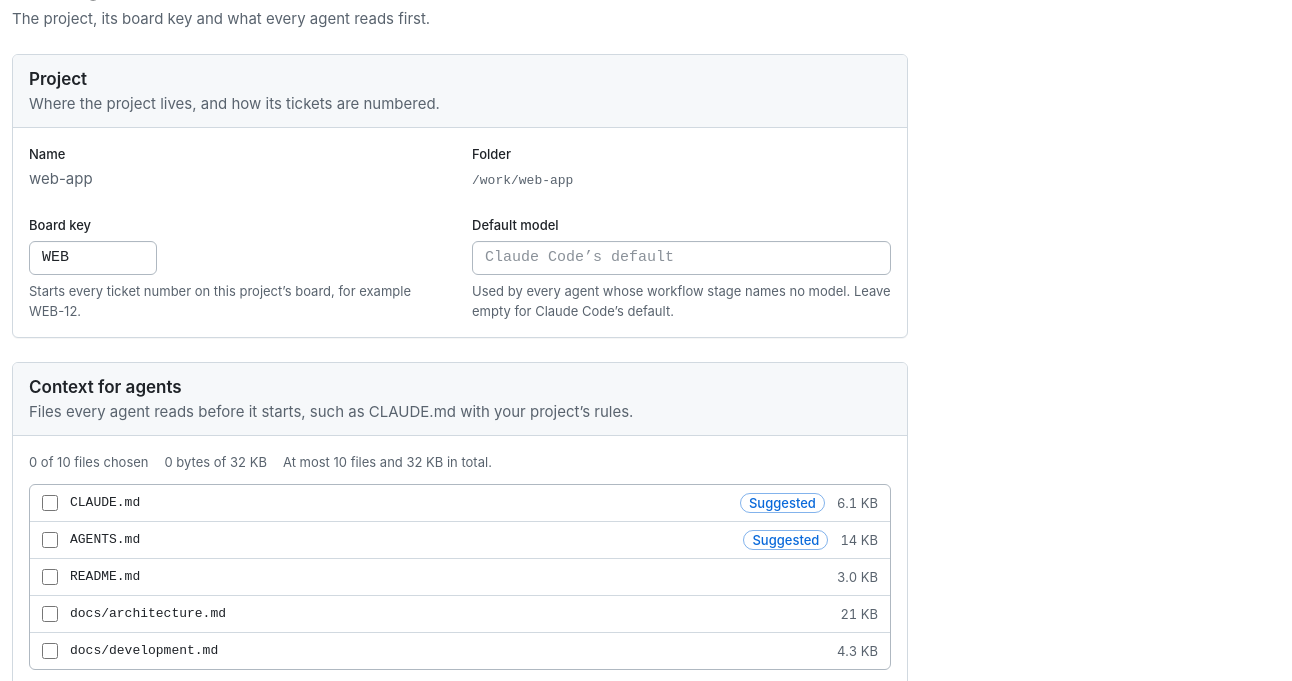
Project settings (#/p/:id/settings, docs/redesign/README.md §4.7) › checks the board key in a sentence before saving
Type "W" into the field labelled "Board key" at (93, 258), box [29,241,157,275]
(page scrolled)
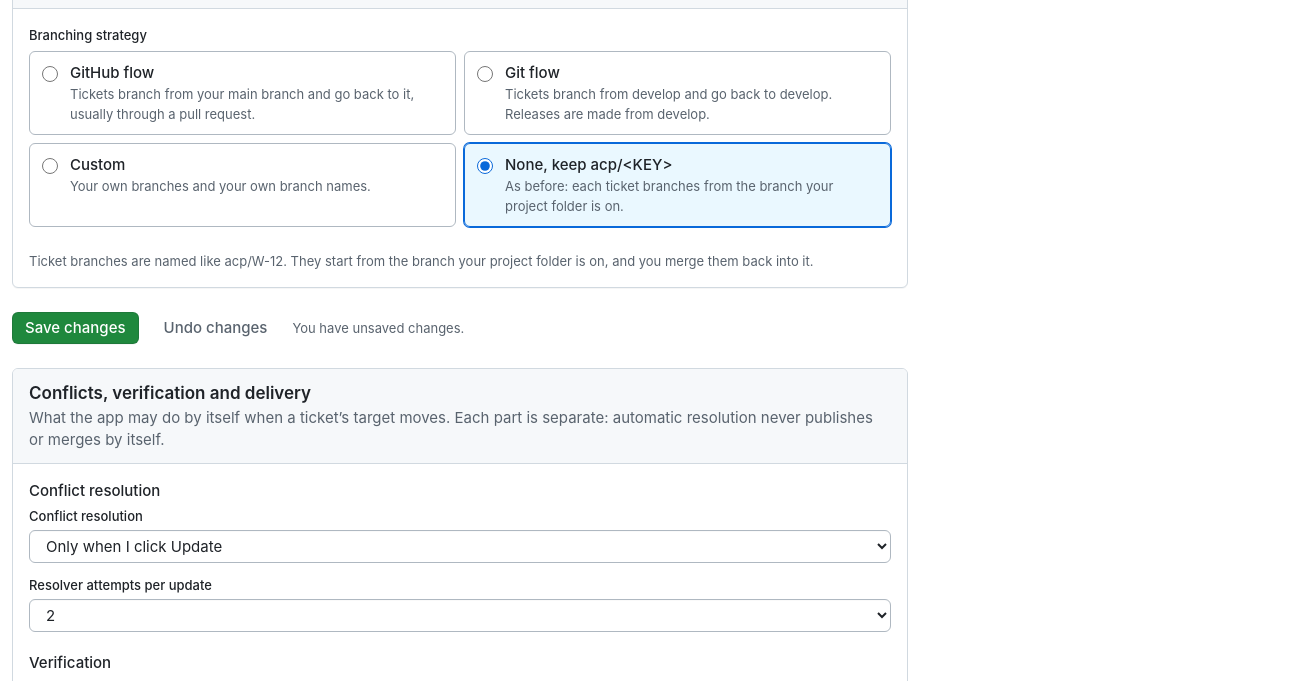
Click the button "Save changes" at (75, 328), box [12,312,138,344]
(page scrolled)
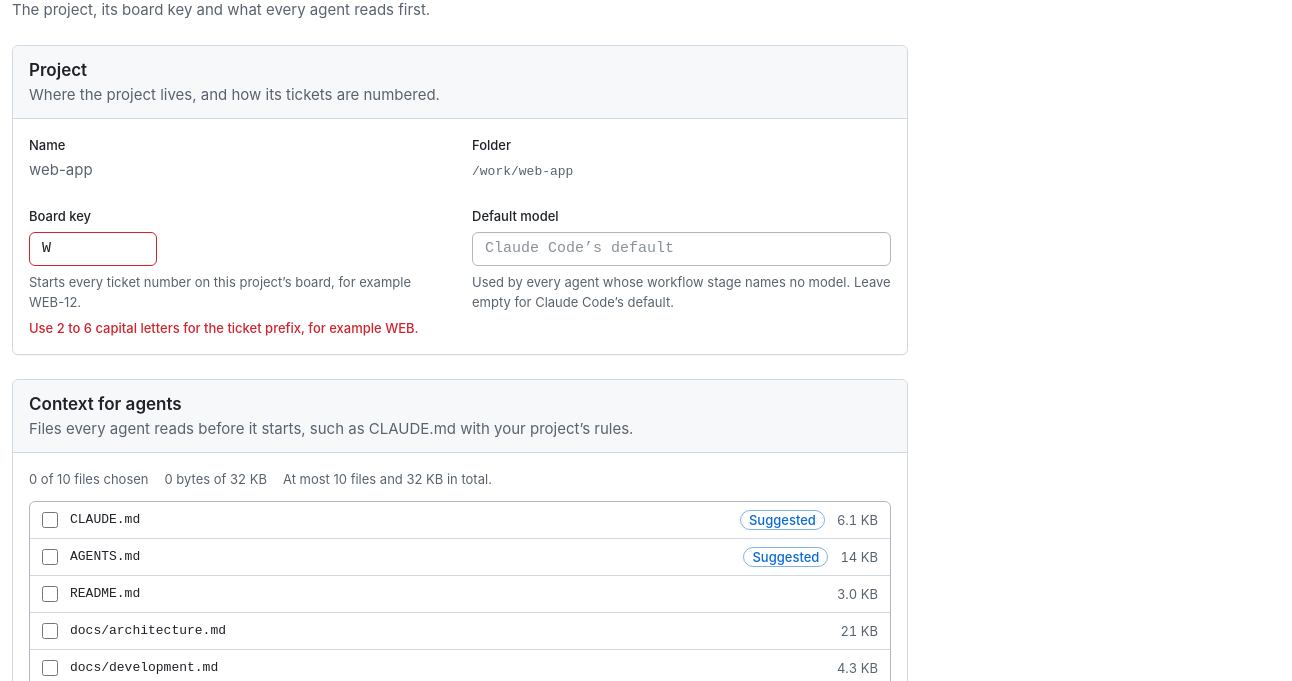
Now the text "Use 2 to 6 capital letters for the ticket prefix, for example WEB." is shown, box [29,318,448,338]
